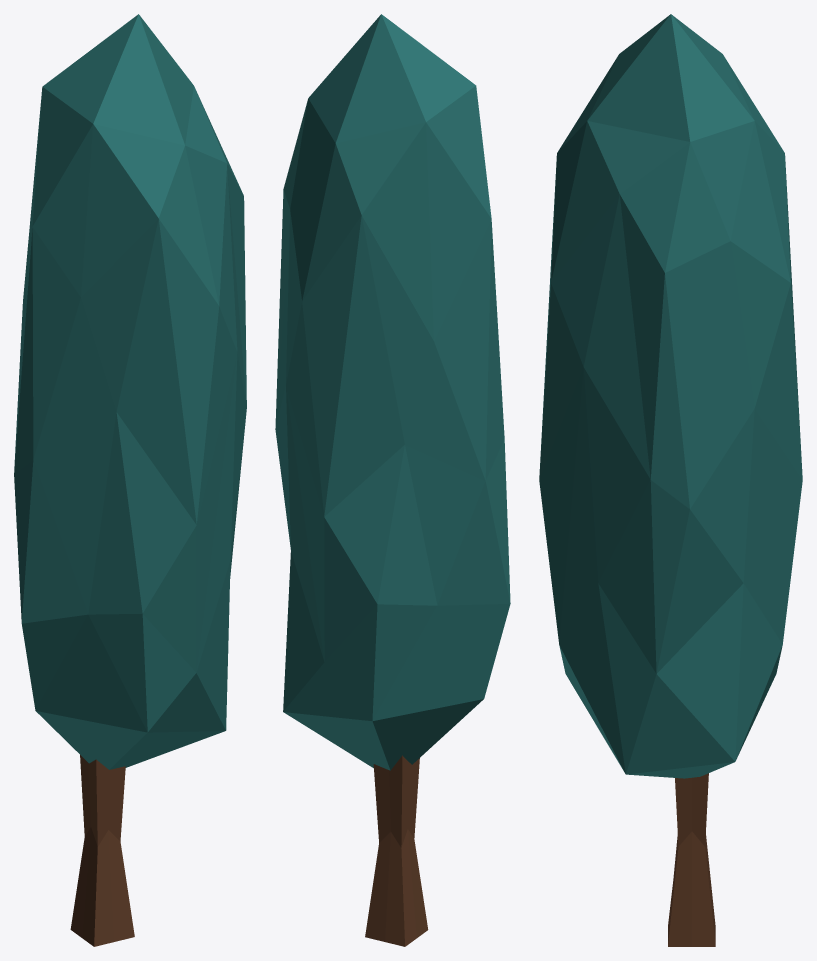
Rendered from Tree_50_Blue.fbx.
3 renders of one model, left to right at view 1: azimuth 30°, elevation 25°; view 2: azimuth 150°, elevation 25°; view 3: azimuth 270°, elevation 25°, orthographic. The views are drawn at different scales.
Visible parts, largest first — view 1: Tree_50_Blue_Part_1, Tree_50_Blue_Part_2; view 2: Tree_50_Blue_Part_1, Tree_50_Blue_Part_2; view 3: Tree_50_Blue_Part_1, Tree_50_Blue_Part_2.
Part boxes in pixels (box(x1,y1,x2,y2)): Tree_50_Blue_Part_1: box(14, 14, 246, 769); Tree_50_Blue_Part_2: box(70, 755, 134, 946); Tree_50_Blue_Part_1: box(275, 14, 510, 770); Tree_50_Blue_Part_2: box(365, 755, 428, 946); Tree_50_Blue_Part_1: box(539, 14, 802, 778); Tree_50_Blue_Part_2: box(668, 773, 715, 946).
Size of the model in its own units: 208 by 810 by 207.
